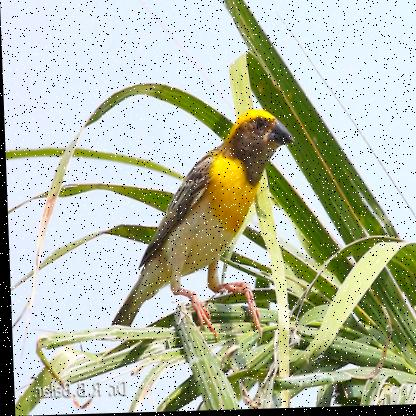Burung: (103, 109, 300, 347)
